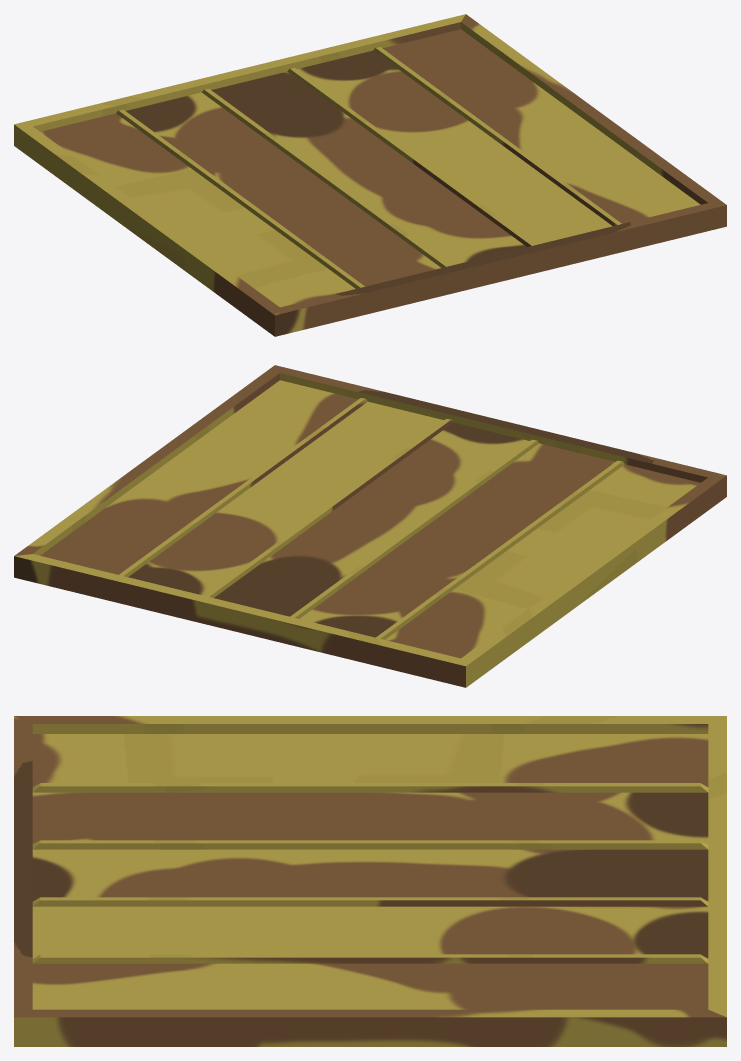
File: pisecnyDomekStrecha.fbx
3 renders of one model, top to bottom at view 1: azimuth 30°, elevation 25°; view 2: azimuth 150°, elevation 25°; view 3: azimuth 270°, elevation 25°, orthographic. The views are drawn at different scales.
Parts seen in each view (by area): view 1: PisecnyDum1.001; view 2: PisecnyDum1.001; view 3: PisecnyDum1.001.
Part boxes in pixels (x1,y1,x2,y2): PisecnyDum1.001: (14, 14, 726, 336); PisecnyDum1.001: (14, 365, 726, 687); PisecnyDum1.001: (14, 716, 726, 1046).
Bounding box in the file's own units: 660 × 30 × 660.
1 material, 1 textured.
